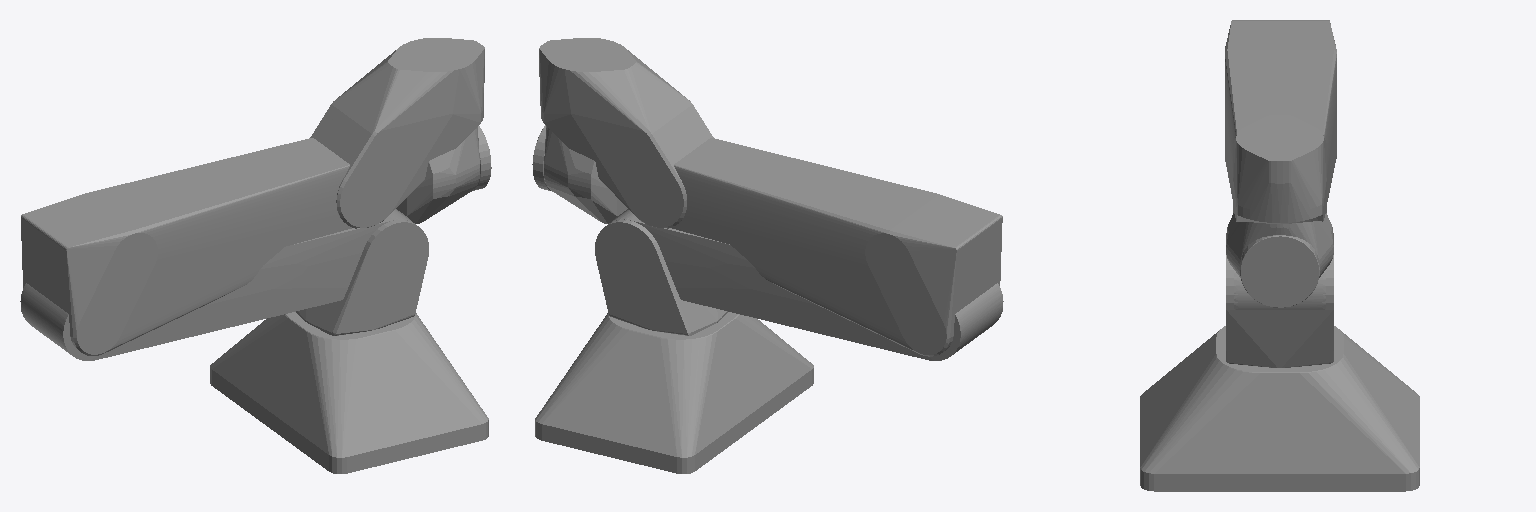
URDF robot description (rebot_b601dm_driver):
<?xml version="1.0" ?>
<!-- =================================================================================== -->
<!-- |    This document was autogenerated by xacro from /workspaces/rebot_isaac_ws/src/rebot_b601dm_description/urdf/rebot_b601dm_driver.urdf.xacro | -->
<!-- |    EDITING THIS FILE BY HAND IS NOT RECOMMENDED                                 | -->
<!-- =================================================================================== -->
<!--
  PRODUCT 2 of 2: the SDK DRIVER model.
  Consumer: the Seeed reBotArm_control_py SDK, via
            rebotarm_hardware_canonical.yaml -> urdf_path.

  ==========================================================================
  WHY THIS PRODUCT EXISTS AT ALL
  ==========================================================================
  robot_model.py loads this URDF with pin.buildModelFromUrdf() and reports
  get_joint_count() as model.nq. The SDK's whole API — command vectors, IK
  seeds, FK queries — is built on that count being exactly 6.

  Adding the gripper's prismatic jaws would make nq == 8 and break that
  contract silently: the SDK would accept 6-vectors and interpret them against
  an 8-DoF model. So this product carries NO actuated gripper joints. Fixed
  joints are fine — Pinocchio does not count them — which is what lets
  end_link exist below without changing nq.

  ==========================================================================
  end_link: A POSE-EQUIVALENT ALIAS OF gripper_tcp
  ==========================================================================
  Seeed's rebotarm_hardware.yaml sets end_effector_frame: end_link, and that
  string is baked through the SDK, so the frame must keep the name. But upstream's
  end_link (from the fixend URDF) is NOT where we plan to:

      legacy end_link vs canonical gripper_tcp:  44.296 mm AND 180 deg about X

  Rather than teach every consumer about that offset, this model places end_link
  coincident with gripper_tcp in position AND orientation, by composing exactly
  the same two fixed transforms the full model uses:

      T_link6_end_link = T_link6_gripper_link . T_gripper_link_tcp
                       = [xyz=(0,0,0.15971), rpy=(0,-1.5708,0)]
                       . [xyz=(-0.0443,0,0),  rpy=(0,0,0)]

  Composing the same primitives — rather than hard-coding the product — is
  deliberate: a hard-coded origin would silently diverge the moment the wrist
  geometry is corrected in one place. The Stage 2 parity test asserts the
  resulting driver-end_link pose equals full-model gripper_tcp to < 1e-6 m and
  < 1e-6 rad over 1000 sampled configurations.

  Note this is NOT the 4 um wrist question. That one (with-gripper gripper_link
  vs fixend end_link) is a non-issue. This is the separate 44.3 mm one, and it is
  real. See docs/KDR-001-kinematic-frames.md.
-->
<robot name="rebot_b601dm_driver">
  <link name="base_link">
    <inertial>
      <origin rpy="0 0 0" xyz="-2.70523135620574E-06 -7.70134319499296E-06 0.028980835090929"/>
      <mass value="0.79874480798149"/>
      <inertia ixx="0.00167922927706365" ixy="1.88775164237686E-09" ixz="-1.97136369561029E-08" iyy="0.00100413042930826" iyz="2.1823444305057E-07" izz="0.00243992061460991"/>
    </inertial>
    <visual>
      <origin rpy="0 0 0" xyz="0 0 0"/>
      <geometry>
        <mesh filename="package://rebot_b601dm_description/meshes/visual/base_link.STL"/>
      </geometry>
      <material name="rebot_grey">
        <color rgba="0.627450980392157 0.627450980392157 0.627450980392157 1"/>
      </material>
    </visual>
    <collision>
      <origin rpy="0 0 0" xyz="0 0 0"/>
      <geometry>
        <mesh filename="package://rebot_b601dm_description/meshes/collision/base_link.STL"/>
      </geometry>
    </collision>
  </link>
  <link name="link1">
    <inertial>
      <origin rpy="0 0 0" xyz="1.20584908205569E-05 -0.00052246270024925 0.0197721792915801"/>
      <mass value="0.0840736498625263"/>
      <inertia ixx="8.53930680558479E-05" ixy="5.36083090564592E-11" ixz="8.1878892265138E-06" iyy="5.08885968641724E-05" iyz="1.61532065580032E-10" izz="8.03867731313707E-05"/>
    </inertial>
    <visual>
      <origin rpy="0 0 0" xyz="0 0 0"/>
      <geometry>
        <mesh filename="package://rebot_b601dm_description/meshes/visual/link1.STL"/>
      </geometry>
      <material name="rebot_grey"/>
    </visual>
    <collision>
      <origin rpy="0 0 0" xyz="0 0 0"/>
      <geometry>
        <mesh filename="package://rebot_b601dm_description/meshes/collision/link1.STL"/>
      </geometry>
    </collision>
  </link>
  <joint name="joint1" type="revolute">
    <origin rpy="0 0 0" xyz="-8.416E-05 0 0.08465"/>
    <parent link="base_link"/>
    <child link="link1"/>
    <axis xyz="0 0 1"/>
    <limit effort="27" lower="-2.8" upper="2.8" velocity="5.0"/>
  </joint>
  <link name="link2">
    <inertial>
      <origin rpy="0 0 0" xyz="-0.13224463371047 -0.00305031595315752 -0.0309299400248282"/>
      <mass value="0.710394385134637"/>
      <inertia ixx="0.00025002655459552" ixy="1.60716279794484E-06" ixz="2.51351488848234E-09" iyy="0.00186321981627926" iyz="4.36542160316282E-07" izz="0.00186007710433815"/>
    </inertial>
    <visual>
      <origin rpy="0 0 0" xyz="0 0 0"/>
      <geometry>
        <mesh filename="package://rebot_b601dm_description/meshes/visual/link2.STL"/>
      </geometry>
      <material name="rebot_grey"/>
    </visual>
    <collision>
      <origin rpy="0 0 0" xyz="0 0 0"/>
      <geometry>
        <mesh filename="package://rebot_b601dm_description/meshes/collision/link2.STL"/>
      </geometry>
    </collision>
  </link>
  <joint name="joint2" type="revolute">
    <origin rpy="-1.5708 0 0" xyz="0.020084 0.031625 0.05555"/>
    <parent link="link1"/>
    <child link="link2"/>
    <axis xyz="0 0 -1"/>
    <limit effort="27" lower="-3.14" upper="0" velocity="5.0"/>
  </joint>
  <link name="link3">
    <inertial>
      <origin rpy="0 0 0" xyz="0.121507513231219 -0.0537568110789665 -0.0310861781010256"/>
      <mass value="0.524941641478664"/>
      <inertia ixx="0.000160157099221732" ixy="-1.6160403467948E-05" ixz="-3.33082723997513E-06" iyy="0.00124905589930288" iyz="2.96940939137566E-07" izz="0.00125568117526574"/>
    </inertial>
    <visual>
      <origin rpy="0 0 0" xyz="0 0 0"/>
      <geometry>
        <mesh filename="package://rebot_b601dm_description/meshes/visual/link3.STL"/>
      </geometry>
      <material name="rebot_grey"/>
    </visual>
    <collision>
      <origin rpy="0 0 0" xyz="0 0 0"/>
      <geometry>
        <mesh filename="package://rebot_b601dm_description/meshes/collision/link3.STL"/>
      </geometry>
    </collision>
  </link>
  <joint name="joint3" type="revolute">
    <origin rpy="0 0 0" xyz="-0.264 0 0"/>
    <parent link="link2"/>
    <child link="link3"/>
    <axis xyz="0 0 1"/>
    <limit effort="27" lower="-3.14" upper="0" velocity="5.0"/>
  </joint>
  <link name="link4">
    <inertial>
      <origin rpy="0 0 0" xyz="0.0612381846323297 -0.0515229512574568 -0.0303340352965348"/>
      <mass value="0.191139210973019"/>
      <inertia ixx="7.18184289370392E-05" ixy="-1.12301944951731E-05" ixz="-5.19641435494074E-08" iyy="0.000112900067589117" iyz="2.21782677668291E-07" izz="0.000101141504876404"/>
    </inertial>
    <visual>
      <origin rpy="0 0 0" xyz="0 0 0"/>
      <geometry>
        <mesh filename="package://rebot_b601dm_description/meshes/visual/link4.STL"/>
      </geometry>
      <material name="rebot_grey"/>
    </visual>
    <collision>
      <origin rpy="0 0 0" xyz="0 0 0"/>
      <geometry>
        <mesh filename="package://rebot_b601dm_description/meshes/collision/link4.STL"/>
      </geometry>
    </collision>
  </link>
  <joint name="joint4" type="revolute">
    <origin rpy="0 0 0" xyz="0.2426 -0.054 -0.001625"/>
    <parent link="link3"/>
    <child link="link4"/>
    <axis xyz="0 0 1"/>
    <limit effort="7" lower="-1.87" upper="1.57" velocity="3.0"/>
  </joint>
  <link name="link5">
    <inertial>
      <origin rpy="0 0 0" xyz="-0.00504933072901427 1.74603011302099E-06 0.0387866303374511"/>
      <mass value="0.150004102113546"/>
      <inertia ixx="6.79196566487009E-05" ixy="-7.20237013118825E-10" ixz="-2.82554291275232E-06" iyy="5.17186991502111E-05" iyz="9.87947763397051E-09" izz="5.43656904496111E-05"/>
    </inertial>
    <visual>
      <origin rpy="0 0 0" xyz="0 0 0"/>
      <geometry>
        <mesh filename="package://rebot_b601dm_description/meshes/visual/link5.STL"/>
      </geometry>
      <material name="rebot_grey"/>
    </visual>
    <collision>
      <origin rpy="0 0 0" xyz="0 0 0"/>
      <geometry>
        <mesh filename="package://rebot_b601dm_description/meshes/collision/link5.STL"/>
      </geometry>
    </collision>
  </link>
  <joint name="joint5" type="revolute">
    <origin rpy="-1.5708 0 0" xyz="0.078308 -0.0375 -0.03"/>
    <parent link="link4"/>
    <child link="link5"/>
    <axis xyz="0 0 1"/>
    <limit effort="7" lower="-1.57" upper="1.57" velocity="3.0"/>
  </joint>
  <link name="link6">
    <inertial>
      <origin rpy="0 0 0" xyz="-1.76034430143801E-05 7.61449749622373E-09 0.00431722560895041"/>
      <mass value="0.0187271664583674"/>
      <inertia ixx="4.42801172036323E-06" ixy="1.26927907319828E-13" ixz="-1.52049684129749E-10" iyy="4.37712746743999E-06" iyz="-2.5907655197107E-13" izz="8.55249688102954E-06"/>
    </inertial>
    <visual>
      <origin rpy="0 0 0" xyz="0 0 0"/>
      <geometry>
        <mesh filename="package://rebot_b601dm_description/meshes/visual/link6.STL"/>
      </geometry>
      <material name="rebot_grey"/>
    </visual>
    <collision>
      <origin rpy="0 0 0" xyz="0 0 0"/>
      <geometry>
        <mesh filename="package://rebot_b601dm_description/meshes/collision/link6.STL"/>
      </geometry>
    </collision>
  </link>
  <!--
      joint6 origin is the WITH-GRIPPER value (0.023692), which is the canonical
      one. Seeed's fixend URDF uses 0.028008 paired with a 0.15539 end offset;
      those two cancel to within 4 um of this model's 0.023692 + 0.15971, because
      the joint6 origin delta rotates onto link6 -Z through rpy=(0, 1.5708, 0).
      The real difference between the two upstream models is a 180-degree flip
      about X, not a translation — see docs/KDR-001-kinematic-frames.md.
    -->
  <joint name="joint6" type="revolute">
    <origin rpy="0 1.5708 0" xyz="0.023692 0 0.04"/>
    <parent link="link5"/>
    <child link="link6"/>
    <axis xyz="0 0 1"/>
    <limit effort="7" lower="-3.14" upper="3.14" velocity="3.0"/>
  </joint>
  <!--
    Intermediate frame carrying the gripper-body transform. Present so the chain
    is built from the same two primitives as the full model instead of a
    pre-multiplied constant. Fixed joints do not contribute to nq.
  -->
  <link name="gripper_link"/>
  <joint name="gripper_joint" type="fixed">
    <origin rpy="0 -1.5708 0" xyz="0 0 0.15971"/>
    <parent link="link6"/>
    <child link="gripper_link"/>
  </joint>
  <!-- The SDK's end_effector_frame. Pose-identical to the full model's
       gripper_tcp by construction. -->
  <link name="end_link"/>
  <joint name="end_joint" type="fixed">
    <origin rpy="0 0 0" xyz="-0.0443 0 0"/>
    <parent link="gripper_link"/>
    <child link="end_link"/>
  </joint>
  <!--
    gripper_tcp is also exposed here, coincident with end_link, so code written
    against the canonical name resolves in both models. Again fixed, so nq == 6.
  -->
  <link name="gripper_tcp"/>
  <joint name="gripper_tcp_joint" type="fixed">
    <origin rpy="0 0 0" xyz="0 0 0"/>
    <parent link="end_link"/>
    <child link="gripper_tcp"/>
  </joint>
</robot>

--- What the picture shows (computed from the rendered views, not written in the file) ---
The picture shows the robot from 3 angles, left to right: view 1: azimuth 30°, elevation 25°; view 2: azimuth 150°, elevation 25°; view 3: azimuth 270°, elevation 25°; orthographic projection.
Robot: rebot_b601dm_driver — 10 links, 9 joints (6 revolute, 3 fixed); root link base_link; default pose: every joint at zero.
Links seen in each view (by area): view 1: link3, base_link, link4, link2, link1, link5, link6; view 2: link3, base_link, link4, link2, link1, link5, link6; view 3: base_link, link3, link4, link1, link6, link5, link2.
Boxes of the visible links, x1,y1,x2,y2 form: link3: (21,138,351,355); base_link: (210,312,488,473); link4: (310,38,484,228); link2: (20,209,414,360); link1: (296,215,428,335); link5: (396,127,479,223); link6: (473,126,491,190); link3: (672,138,1002,356); base_link: (535,312,813,473); link4: (539,38,713,228); link2: (611,210,1003,360); link1: (595,218,727,335); link5: (544,126,628,223); link6: (532,125,550,190); base_link: (1140,326,1419,491); link3: (1225,20,1336,201); link4: (1233,115,1326,223); link1: (1226,255,1333,367); link6: (1240,235,1319,307); link5: (1226,213,1333,277); link2: (1234,271,1325,309).
Size in the robot's own frame: 0.3889 by 0.2 by 0.2822 metres.
Meshes: 7 distinct files referenced, 7 mesh visuals loaded (7 binary STL).
